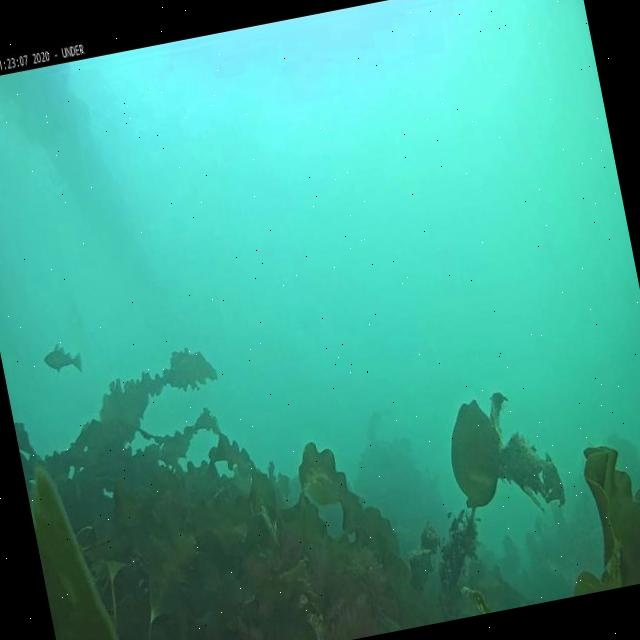fish: (42, 340, 82, 378)
